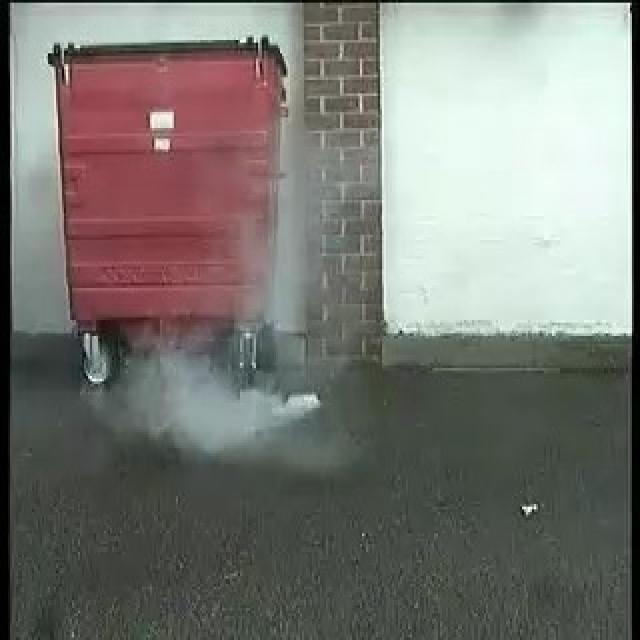smoke: (136, 345, 325, 451)
